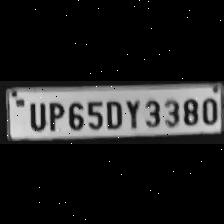0: (199, 92, 219, 124)
3: (141, 96, 161, 128), (160, 95, 180, 127)
5: (84, 96, 104, 128)
6: (64, 98, 84, 130)
8: (180, 94, 198, 126)
D: (103, 96, 123, 128)
P: (46, 97, 64, 130)
U: (25, 98, 47, 130)
Y: (123, 96, 141, 128)
